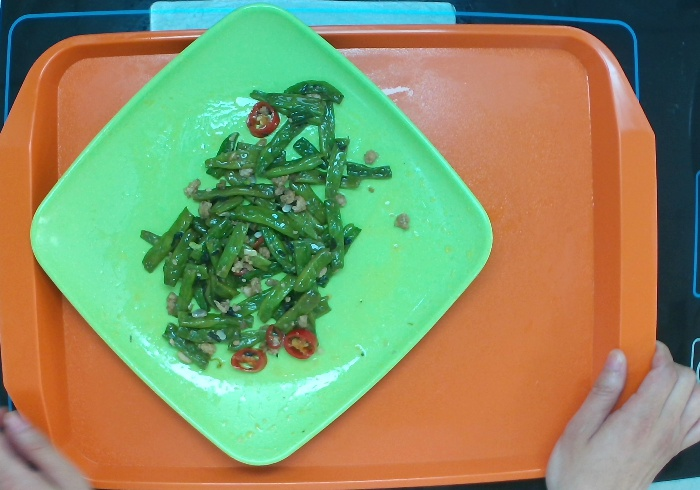ZNLD-Lv_Fang_Pan: (28, 1, 496, 464)
